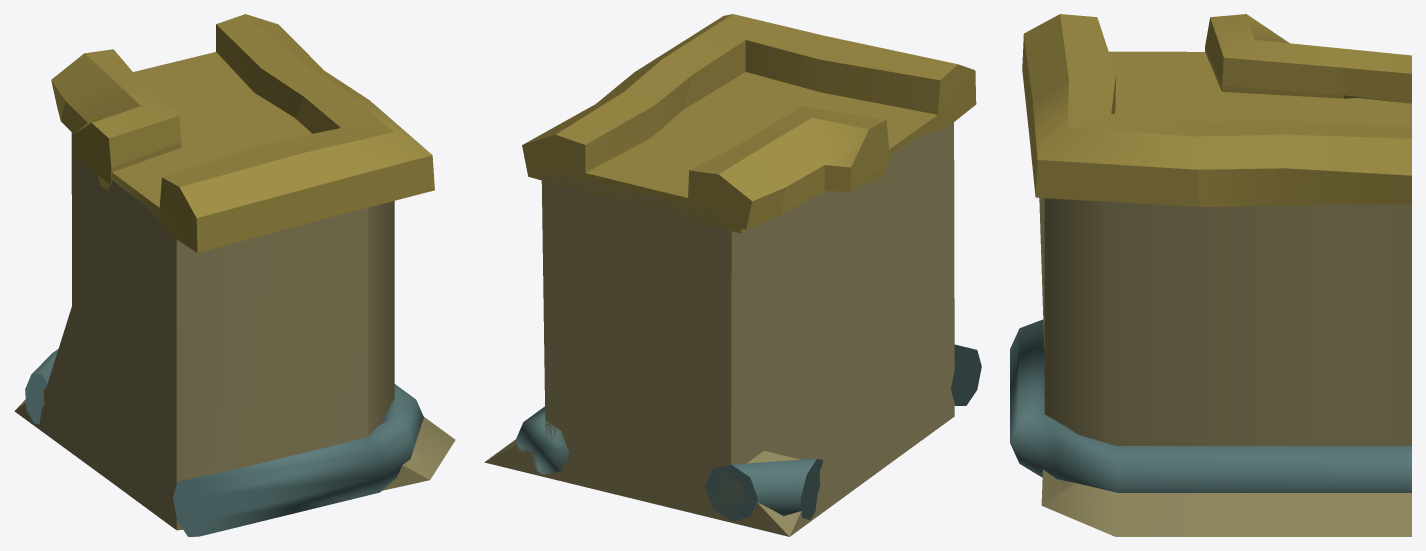
Rendered from Int_6_Wall_Left_Corner_CutDiagonal.fbx.
3 views of the same model, side by side, from view 1: azimuth 30°, elevation 25°; view 2: azimuth 150°, elevation 25°; view 3: azimuth 270°, elevation 25° (orthographic). The views are drawn at different scales.
Parts seen in each view (by area): view 1: Int_6_Wall_Left_Corner_CutDiagonal1; view 2: Int_6_Wall_Left_Corner_CutDiagonal1; view 3: Int_6_Wall_Left_Corner_CutDiagonal1.
Boxes of the visible parts, x1,y1,x2,y2 form: Int_6_Wall_Left_Corner_CutDiagonal1: (14,14,455,536); Int_6_Wall_Left_Corner_CutDiagonal1: (484,14,981,536); Int_6_Wall_Left_Corner_CutDiagonal1: (1010,14,1411,536).
Bounding box in the file's own units: 1 × 1.1 × 1.09.
